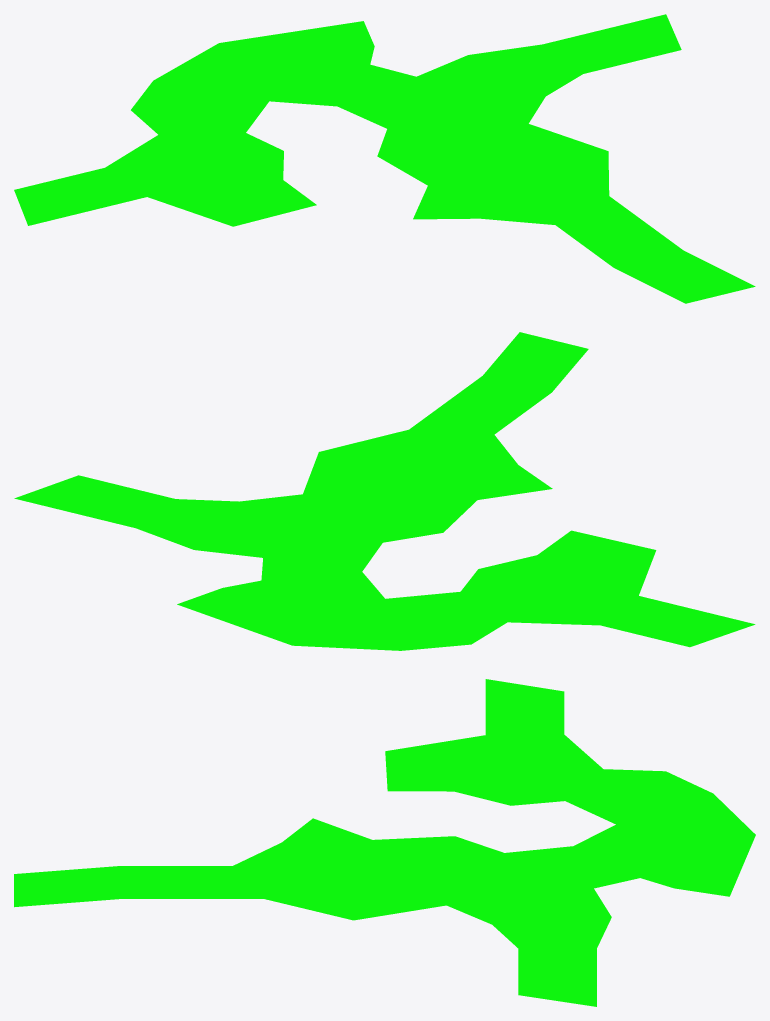
The model's file is s03b_td1-floor.glb.
3 renders of one model, top to bottom at view 1: azimuth 30°, elevation 25°; view 2: azimuth 150°, elevation 25°; view 3: azimuth 270°, elevation 25°, orthographic. The views are drawn at different scales.
Visible parts, largest first — view 1: collision_floor-colonly; view 2: collision_floor-colonly; view 3: collision_floor-colonly.
Boxes of the visible parts, <box> form: collision_floor-colonly: <box>14,14,755,303</box>; collision_floor-colonly: <box>14,332,755,650</box>; collision_floor-colonly: <box>14,679,755,1006</box>.
Bounding box in the file's own units: 59.4 × 0.00781 × 56.78.
